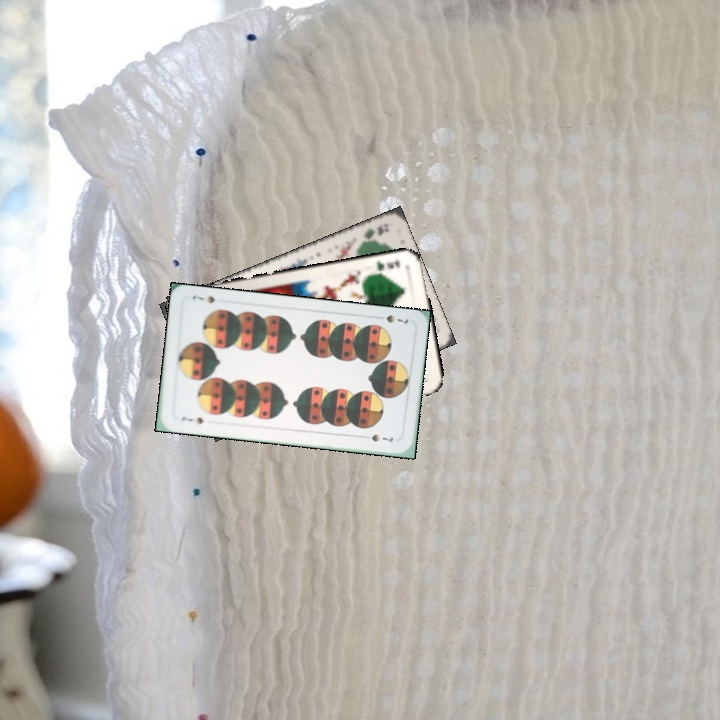GK: (355, 219, 392, 247), (372, 256, 402, 273)
S7: (382, 310, 411, 326), (178, 412, 206, 427)
